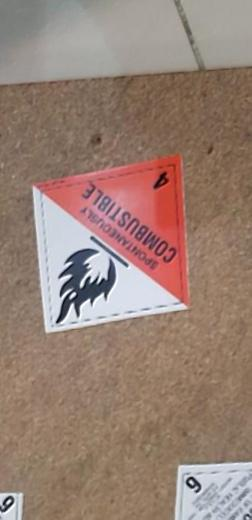spontaneously-combustible: (25, 154, 192, 336)
